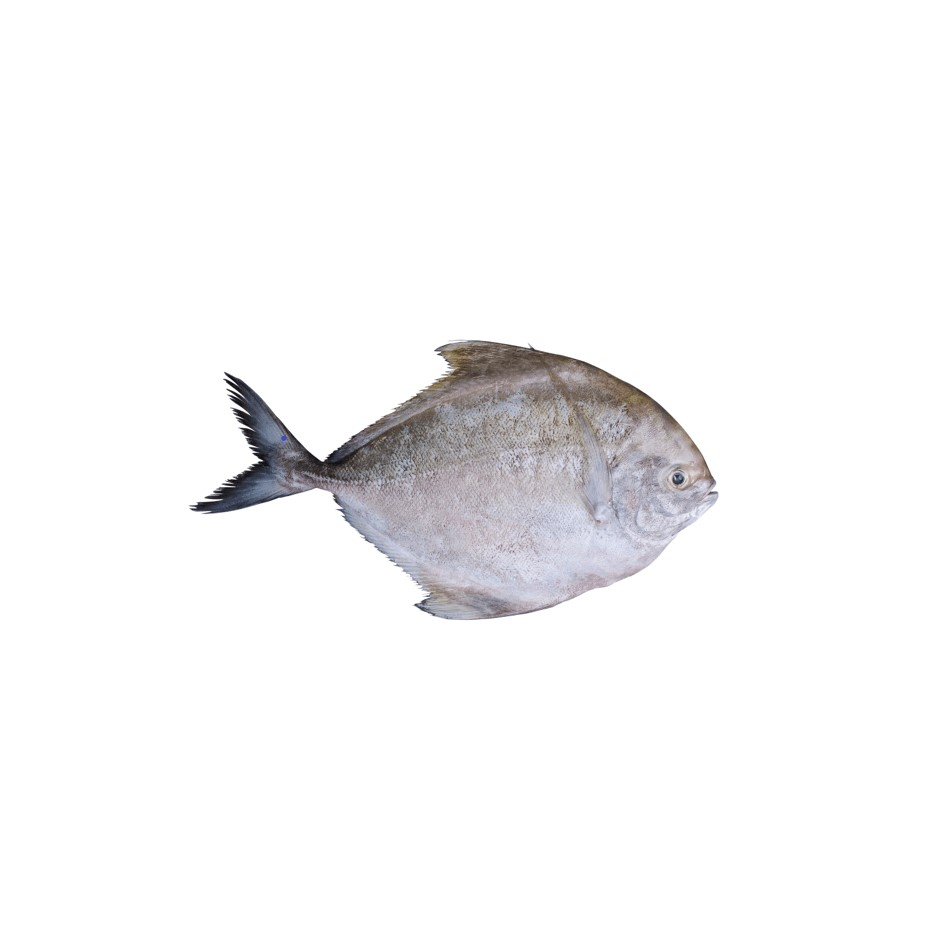Ikan Bawal: (182, 322, 730, 645)
